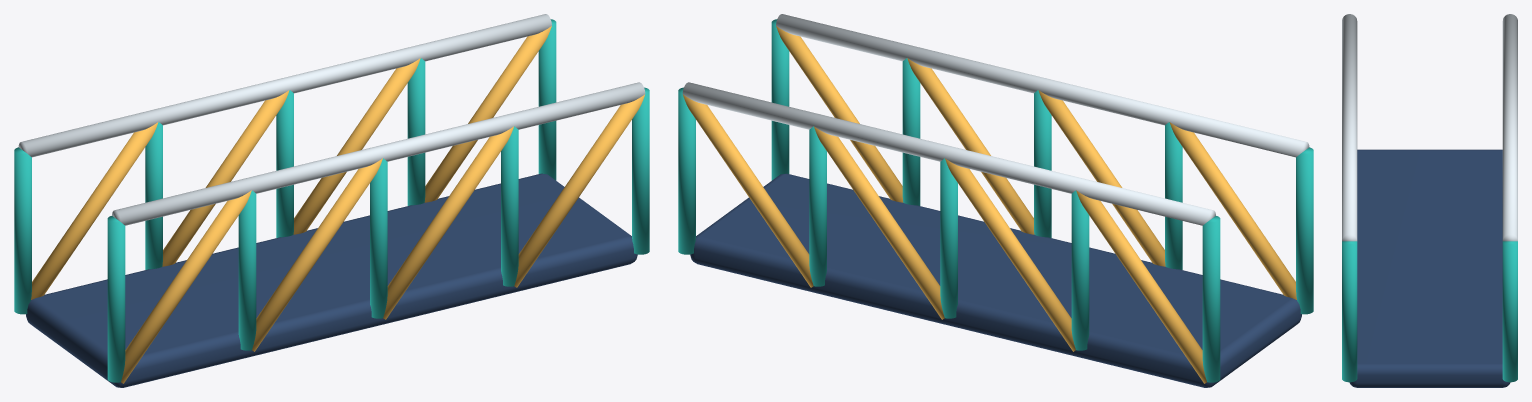
File: truss-bridge-quality.glb
3 views of the same model, side by side, from view 1: azimuth 30°, elevation 25°; view 2: azimuth 150°, elevation 25°; view 3: azimuth 270°, elevation 25° (orthographic). The views are drawn at different scales.
Visible parts, largest first — view 1: Bridge deck; view 2: Bridge deck; view 3: Bridge deck.
Boxes of the visible parts, x1,y1,x2,y2 form: Bridge deck: (14,14,649,387); Bridge deck: (678,14,1313,387); Bridge deck: (1342,14,1517,387).
Size of the model in its own units: 2.47 by 0.795 by 0.81.
